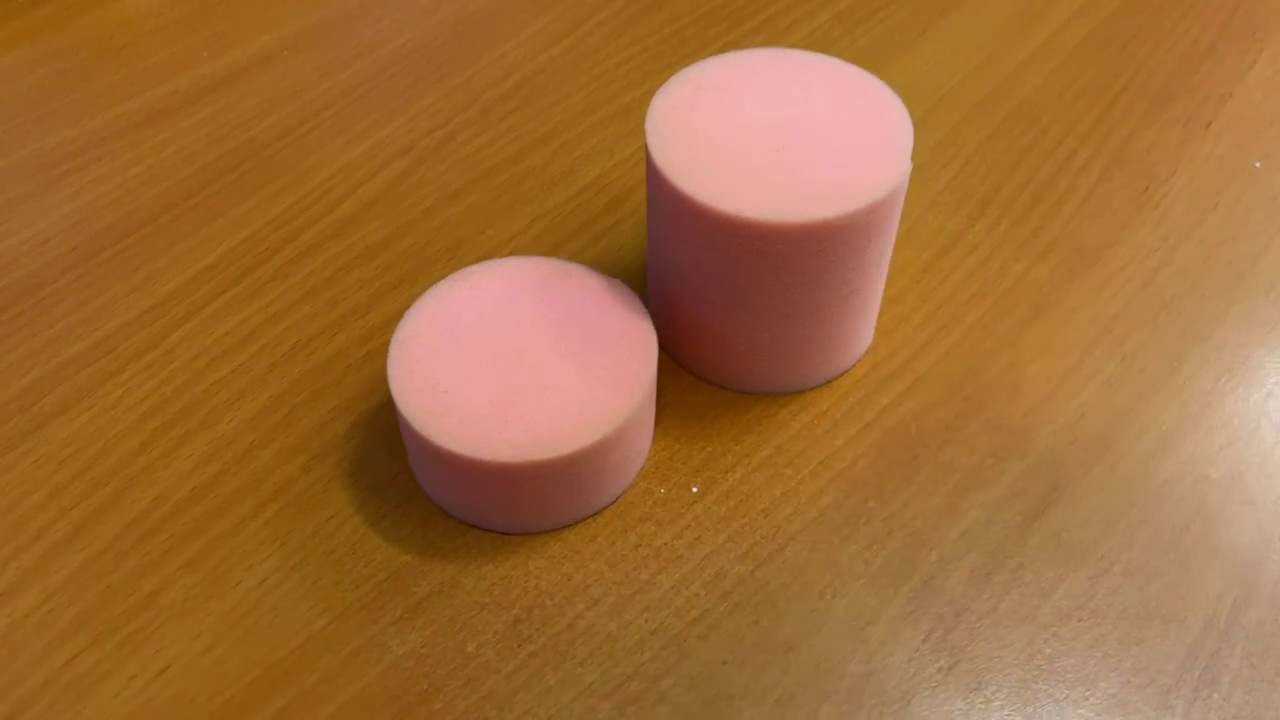Clyinder_short: (376, 251, 668, 536)
Cylinder: (633, 36, 919, 402)
